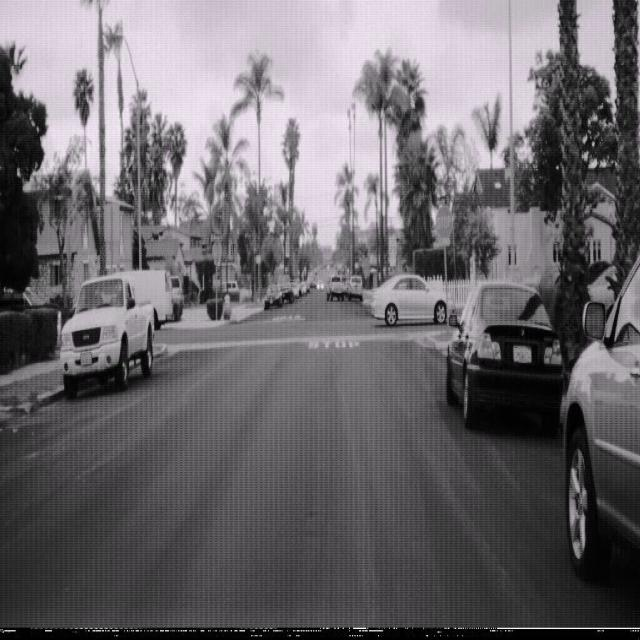stop_sign: (435, 204, 453, 239)
